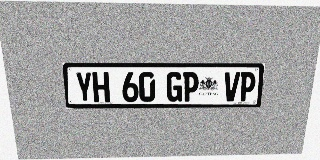0: (139, 72, 155, 102)
6: (122, 72, 139, 102)
G: (166, 72, 183, 102)
H: (92, 72, 110, 102)
P: (238, 72, 256, 101), (182, 72, 199, 102)
V: (223, 72, 240, 101)
Y: (75, 72, 93, 102)
